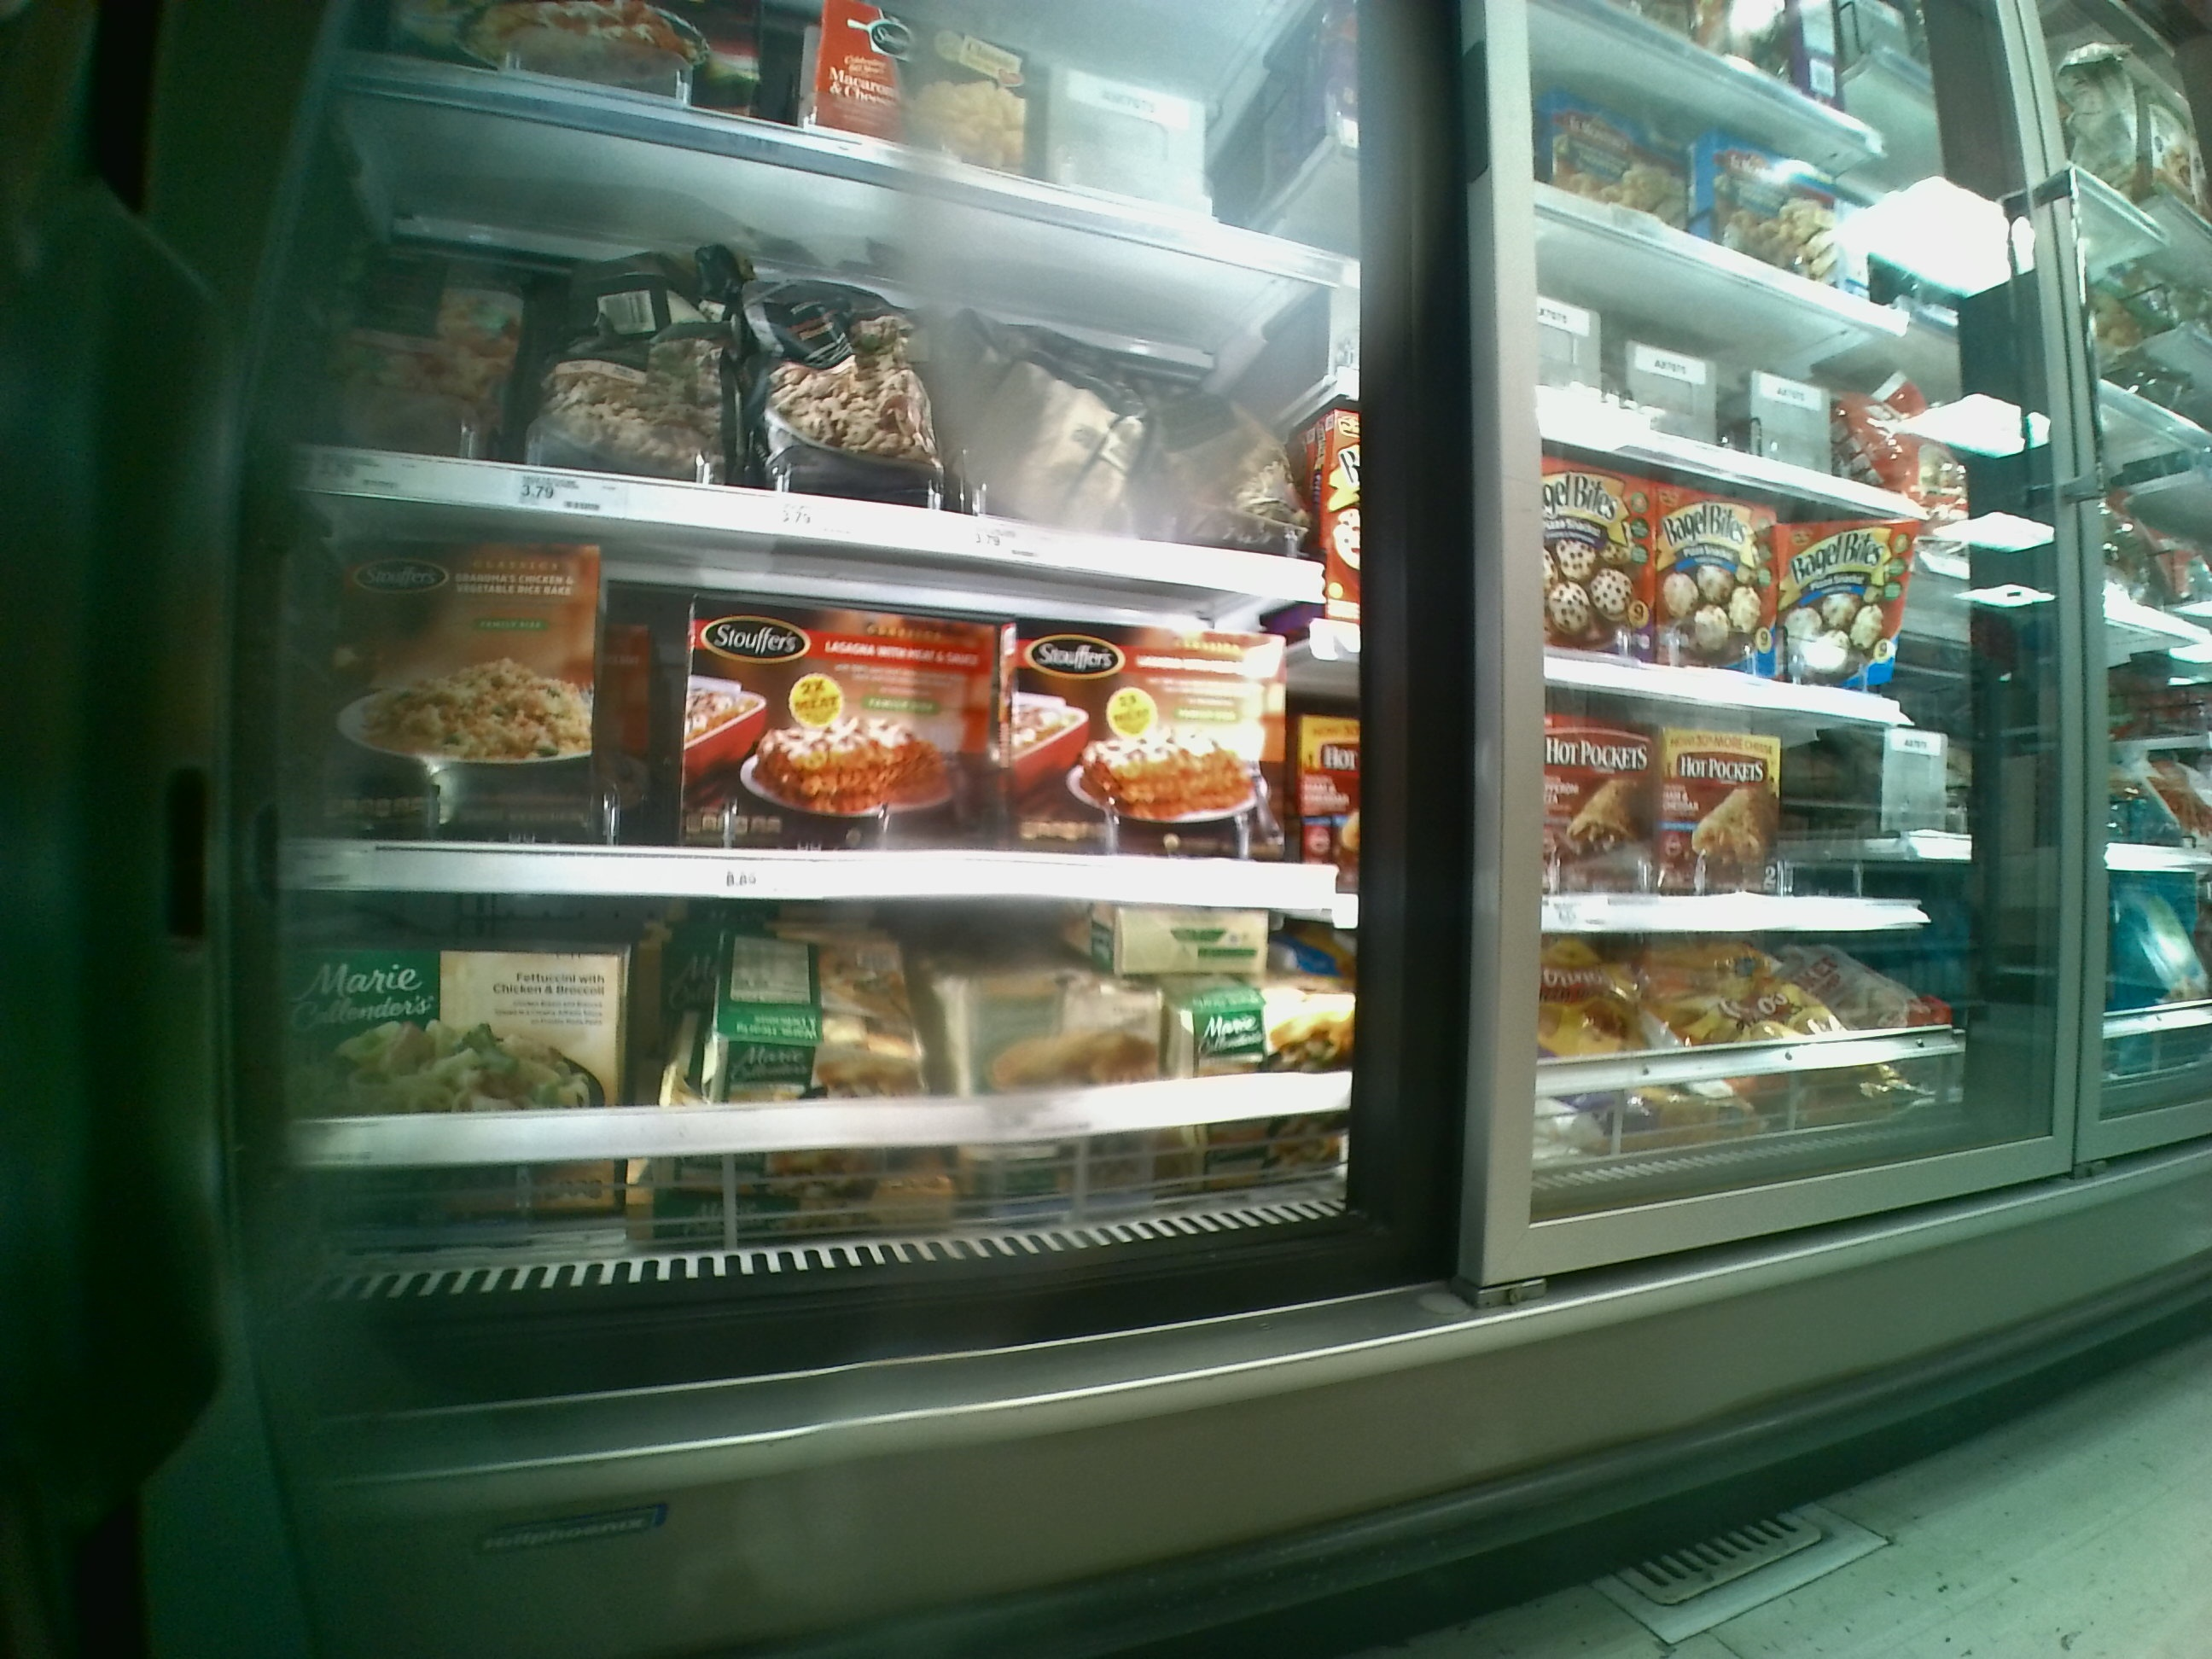shelf: (298, 896, 1355, 1279), (300, 209, 1360, 544), (296, 563, 1348, 899)
